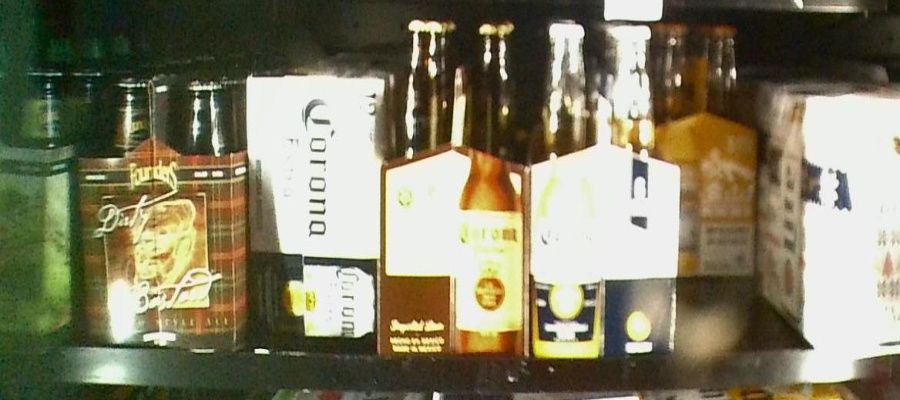bottle: (532, 15, 677, 359), (381, 19, 529, 355), (80, 72, 249, 351), (247, 76, 378, 353), (666, 16, 757, 276)
